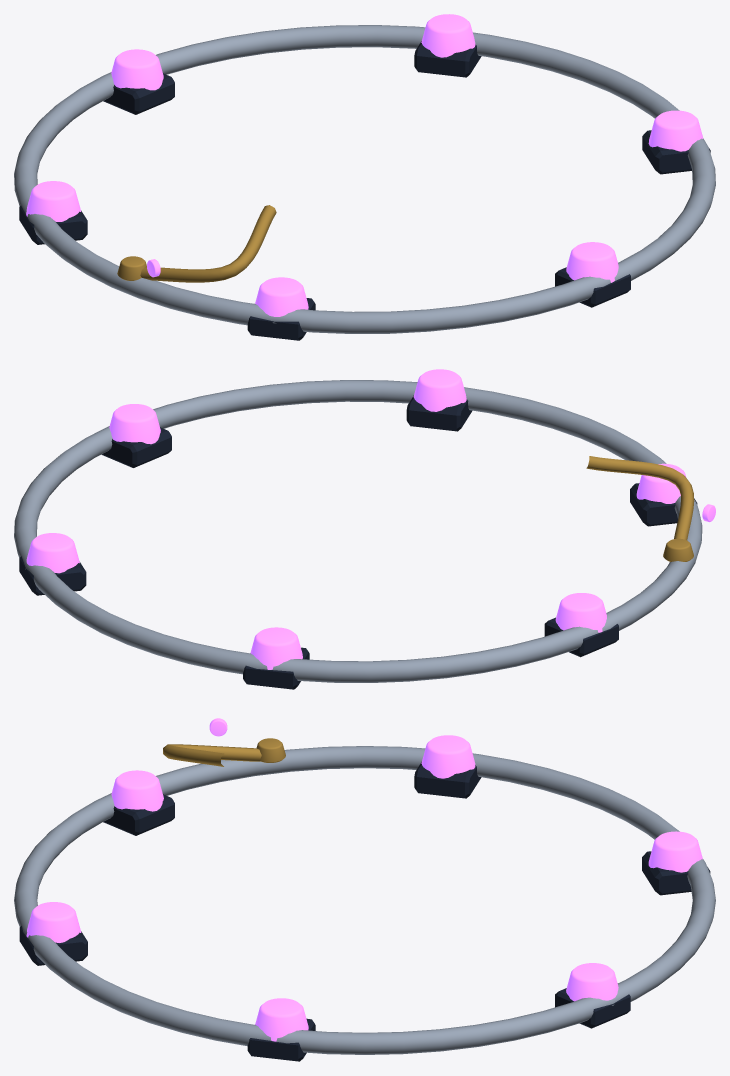
File: tower_singularity_range_s5.glb
3 renders of one model, top to bottom at view 1: azimuth 30°, elevation 25°; view 2: azimuth 150°, elevation 25°; view 3: azimuth 270°, elevation 25°, orthographic.
Parts seen in each view (by area): view 1: singularity_projector_ring, singularity_projector_conduit, singularity_projector_node2, singularity_projector_node1, singularity_projector_node3, singularity_projector_node0, singularity_projector_node4, singularity_projector_node5, singularity_projector_shoe2, singularity_projector_shoe1, singularity_projector_shoe3, singularity_projector_shoe5 (+3 smaller); view 2: singularity_projector_ring, singularity_projector_conduit, singularity_projector_node4, singularity_projector_node3, singularity_projector_node2, singularity_projector_node0, singularity_projector_node1, singularity_projector_shoe4, singularity_projector_shoe3, singularity_projector_shoe5, singularity_projector_node5, singularity_projector_shoe1 (+3 smaller); view 3: singularity_projector_ring, singularity_projector_node0, singularity_projector_node5, singularity_projector_node1, singularity_projector_node4, singularity_projector_node2, singularity_projector_node3, singularity_projector_conduit, singularity_projector_shoe0, singularity_projector_shoe5, singularity_projector_shoe1, singularity_projector_shoe3 (+3 smaller).
Part boxes in pixels (x1,y1,x2,y2): singularity_projector_ring: [14, 25, 715, 333]; singularity_projector_conduit: [140, 205, 276, 282]; singularity_projector_node2: [421, 14, 475, 57]; singularity_projector_node1: [111, 49, 163, 90]; singularity_projector_node3: [648, 110, 703, 151]; singularity_projector_node0: [26, 181, 81, 221]; singularity_projector_node4: [566, 242, 618, 282]; singularity_projector_node5: [255, 277, 308, 316]; singularity_projector_shoe2: [414, 41, 481, 77]; singularity_projector_shoe1: [103, 73, 174, 114]; singularity_projector_shoe3: [642, 130, 710, 174]; singularity_projector_shoe5: [247, 298, 315, 340]; singularity_projector_ring: [14, 380, 702, 682]; singularity_projector_conduit: [586, 456, 694, 540]; singularity_projector_node4: [413, 369, 466, 411]; singularity_projector_node3: [109, 404, 160, 444]; singularity_projector_node2: [26, 533, 79, 573]; singularity_projector_node0: [555, 593, 606, 632]; singularity_projector_node1: [250, 627, 302, 669]; singularity_projector_shoe4: [406, 395, 472, 431]; singularity_projector_shoe3: [101, 427, 171, 467]; singularity_projector_shoe5: [630, 483, 697, 526]; singularity_projector_node5: [636, 463, 686, 503]; singularity_projector_shoe1: [243, 647, 309, 689]; singularity_projector_ring: [14, 746, 715, 1054]; singularity_projector_node0: [421, 735, 475, 778]; singularity_projector_node5: [111, 770, 163, 811]; singularity_projector_node1: [648, 831, 702, 872]; singularity_projector_node4: [26, 902, 81, 942]; singularity_projector_node2: [566, 963, 618, 1001]; singularity_projector_node3: [255, 998, 308, 1041]; singularity_projector_conduit: [163, 744, 261, 766]; singularity_projector_shoe0: [414, 762, 481, 798]; singularity_projector_shoe5: [103, 794, 174, 835]; singularity_projector_shoe1: [642, 851, 710, 895]; singularity_projector_shoe3: [247, 1018, 315, 1061].
Bounding box in the file's own units: 2.22 × 0.2921 × 2.22.
